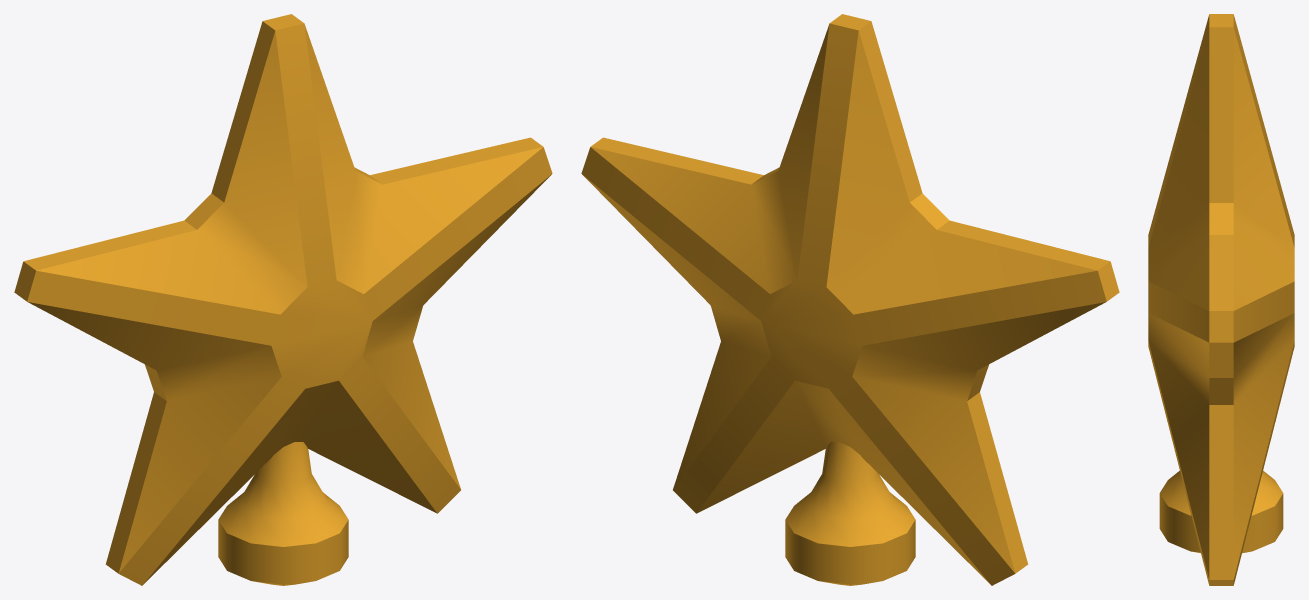
The model's file is Star_0_SimpleStar.fbx.
The picture shows the model from 3 angles, left to right: view 1: azimuth 30°, elevation 25°; view 2: azimuth 150°, elevation 25°; view 3: azimuth 270°, elevation 25°; orthographic projection. The views are drawn at different scales.
Parts seen in each view (by area): view 1: Star_0_SimpleStar; view 2: Star_0_SimpleStar; view 3: Star_0_SimpleStar.
Boxes of the visible parts, x1,y1,x2,y2 form: Star_0_SimpleStar: (14, 14, 552, 585); Star_0_SimpleStar: (581, 14, 1119, 585); Star_0_SimpleStar: (1148, 14, 1294, 585).
Bounding box in the file's own units: 29.24 × 29.44 × 7.44.
